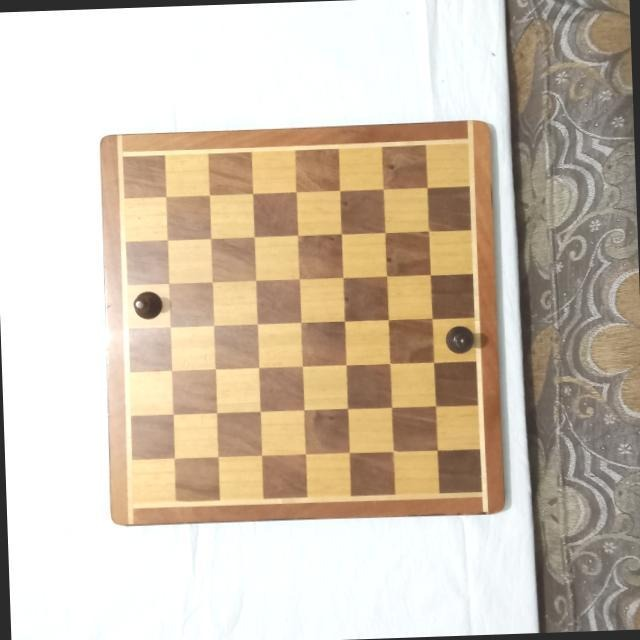black-pawn: (441, 321, 474, 354), (129, 290, 163, 321)
